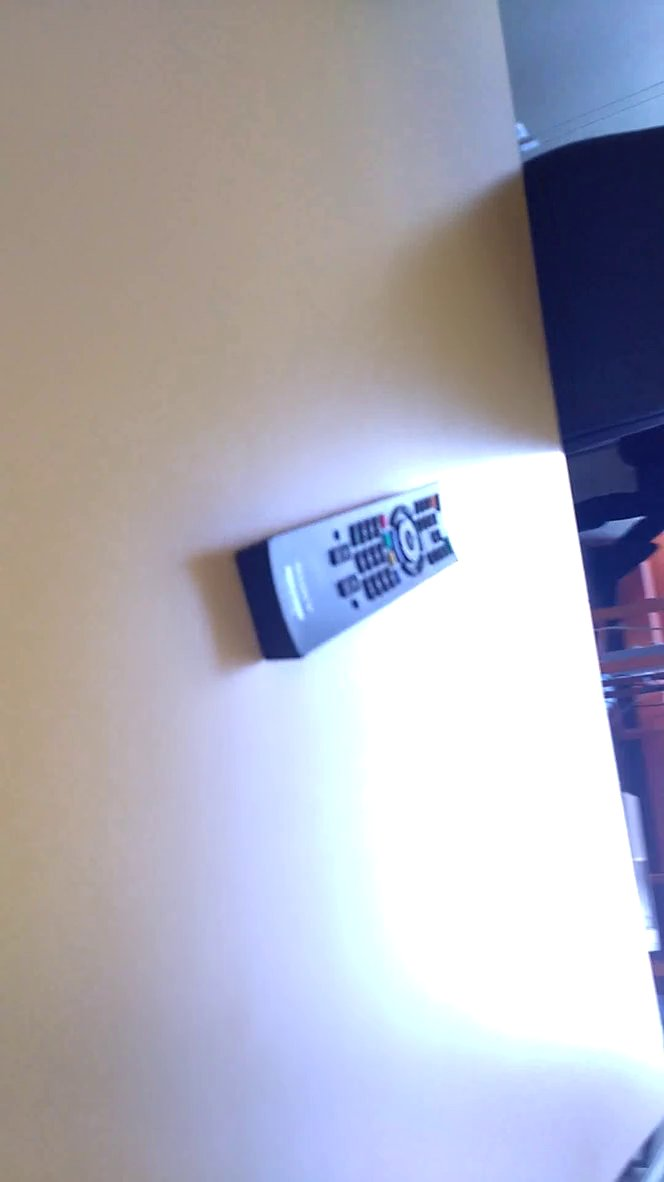remote: (219, 459, 492, 683)
